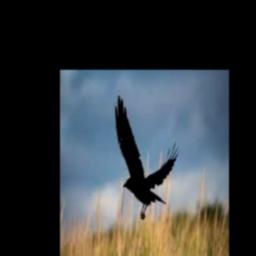Crow: (114, 95, 179, 221)
